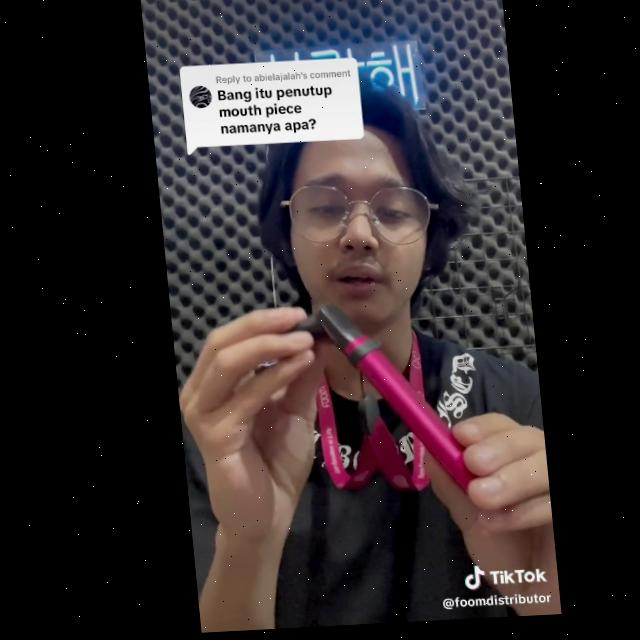vape: (310, 295, 471, 502)
